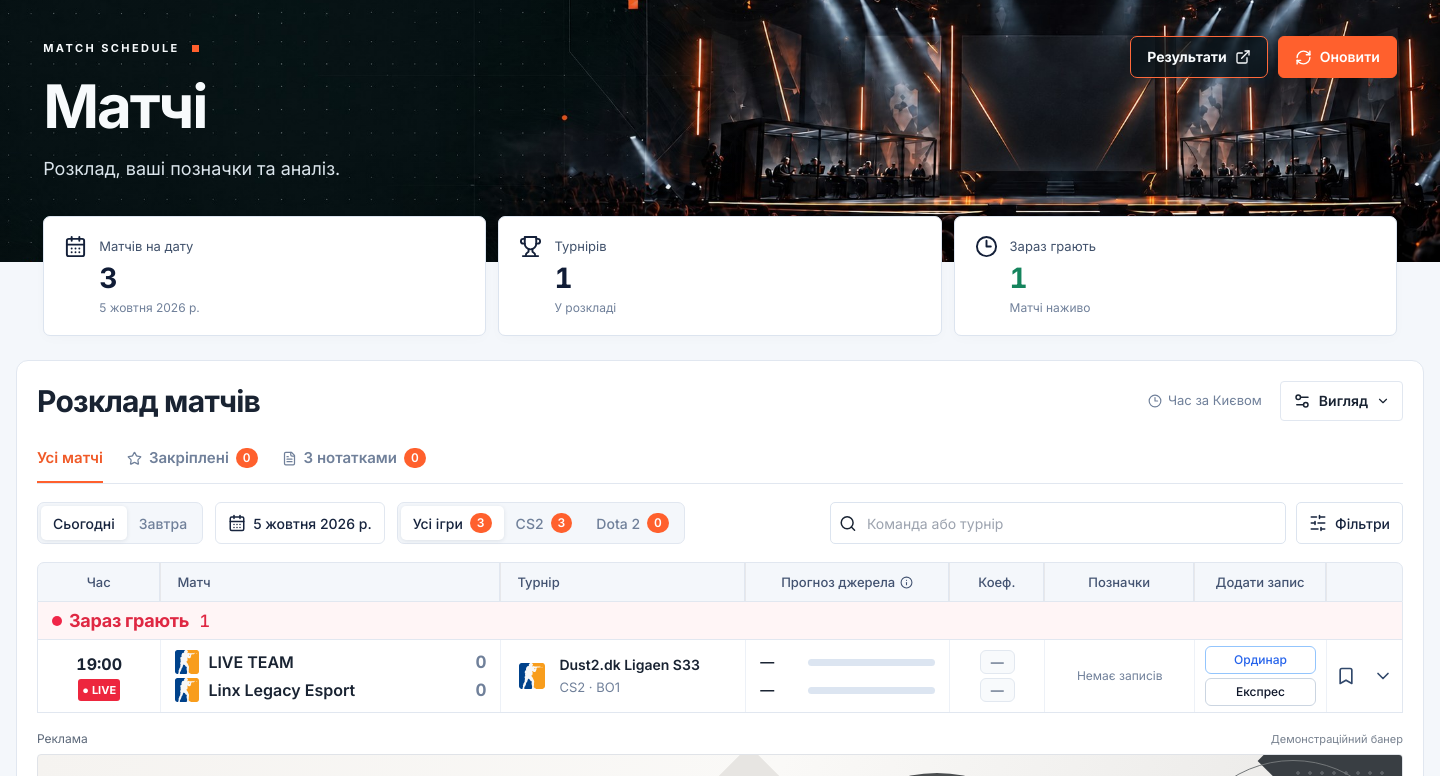
it: status sections and advertising placement › removes empty sections and the ad when filtering to one group or no results
The image size is (1440, 776).
Type "NEXT" into the search field named "Пошук команди або турніру" at (1072,524), box [867,504,1277,544]
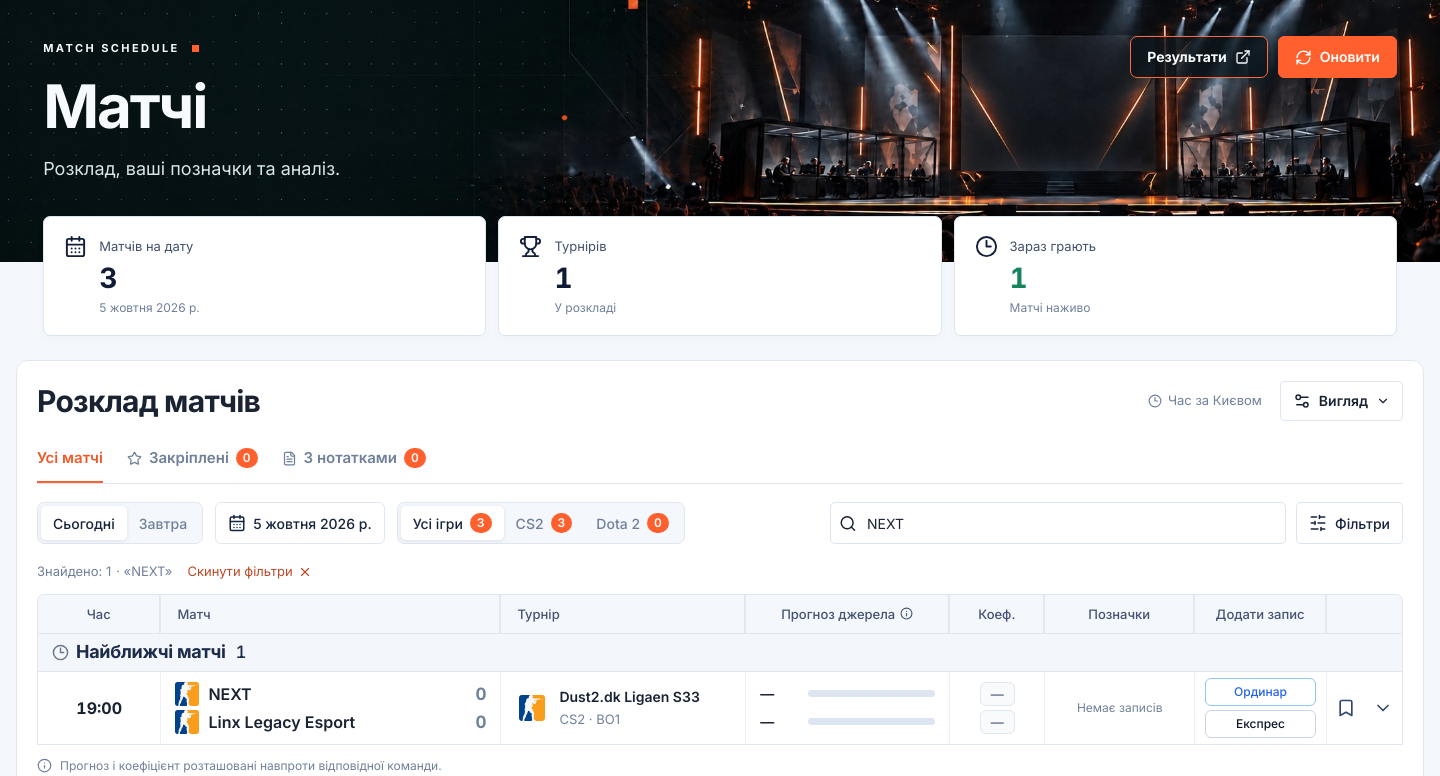
Result: the text "Реклама" is gone
Result: the number of elements with test id "schedule-row" is 1 at [38,672,1402,745]
Replace the text in the search field named "Пошук команди або турніру" with "unmatched query" at (1072,524), box [867,504,1277,544]
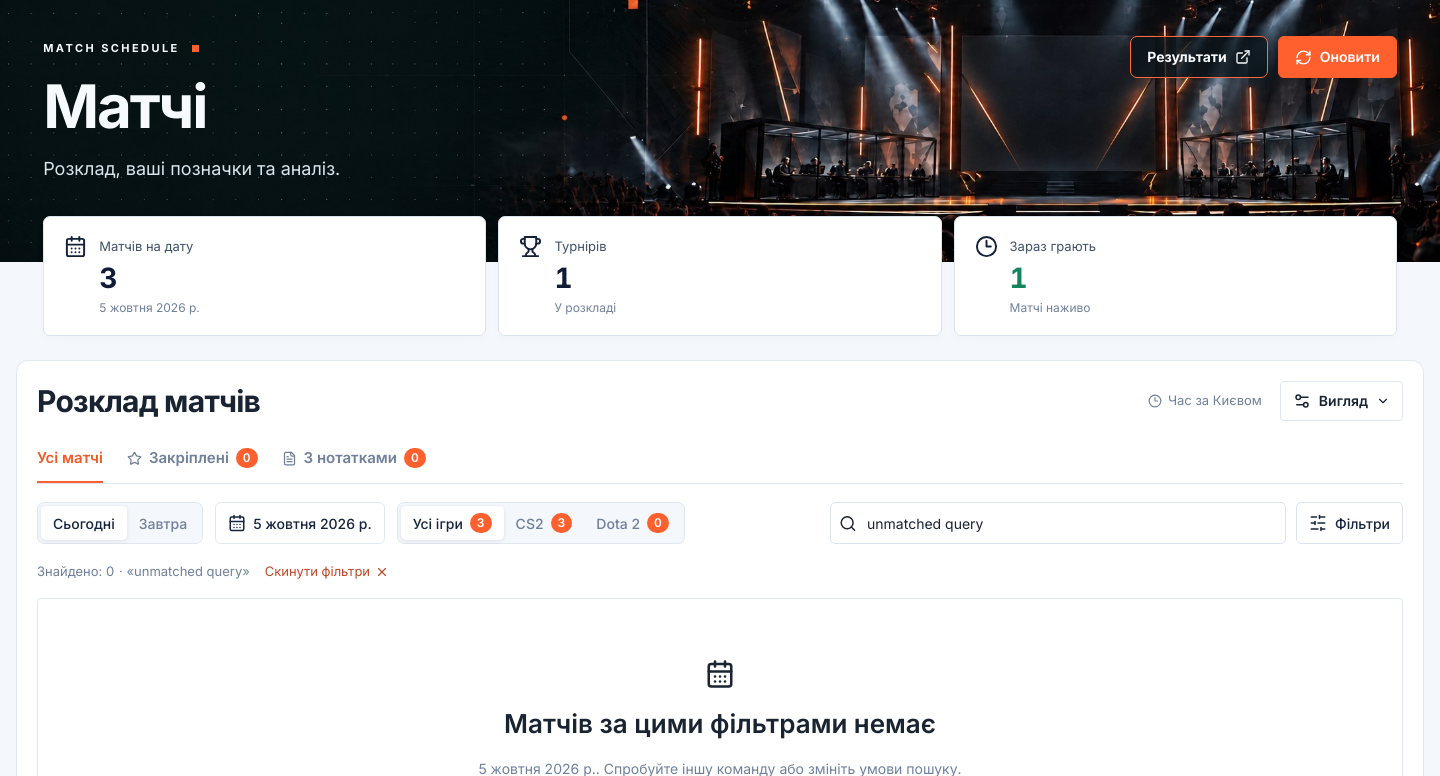
Expected: the text "Реклама" is not shown
Result: no elements with test id "schedule-row" are shown
Clear the search field named "Пошук команди або турніру" at (1072,524), box [867,504,1277,544]
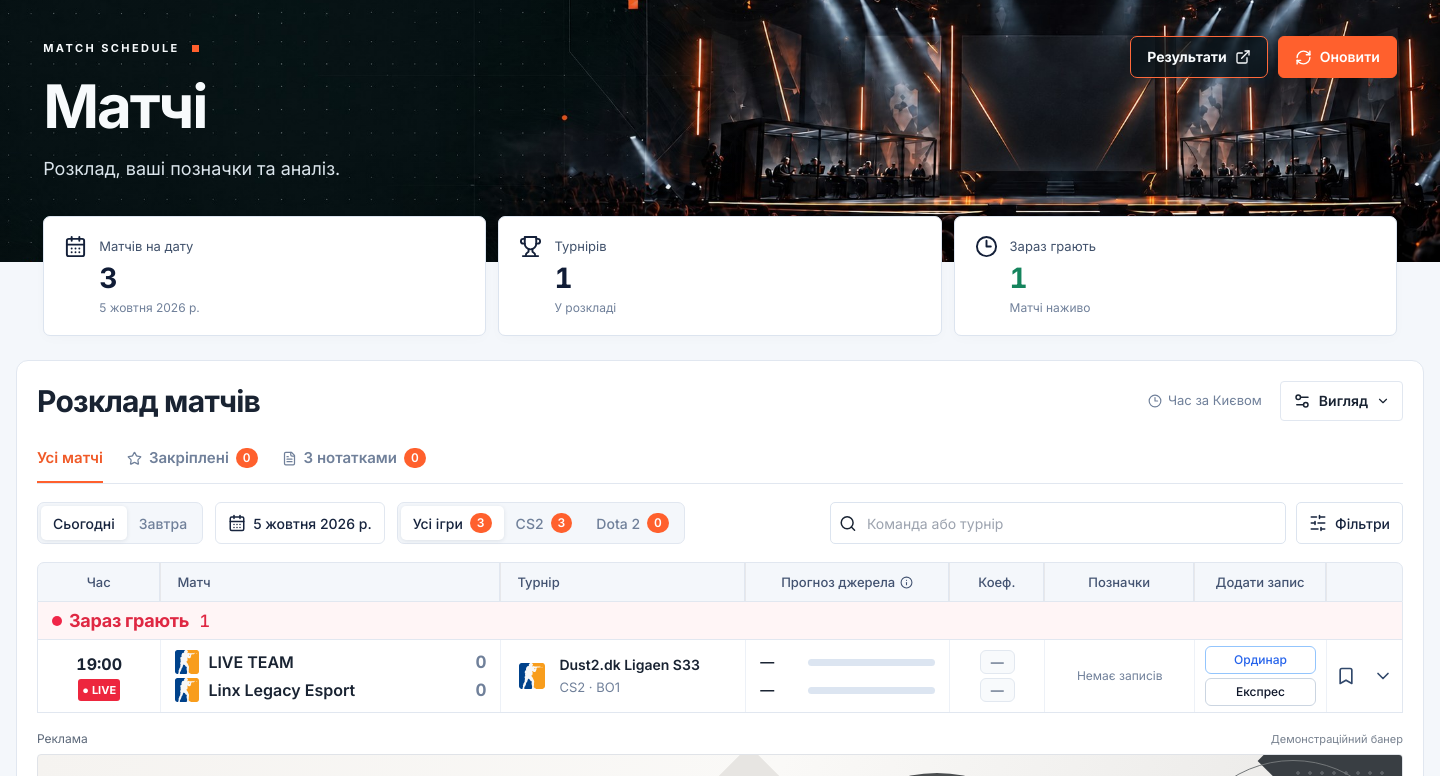
Result: the number of elements with test id "schedule-row" is 3
